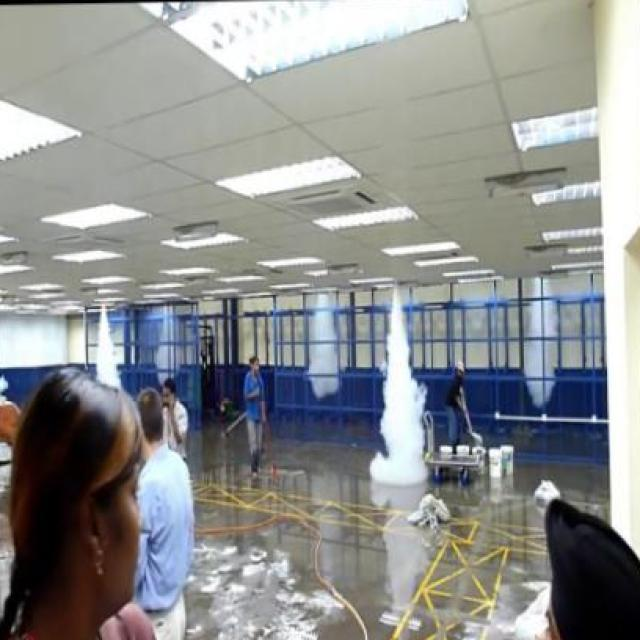fire: (367, 280, 428, 487), (88, 308, 126, 385)
